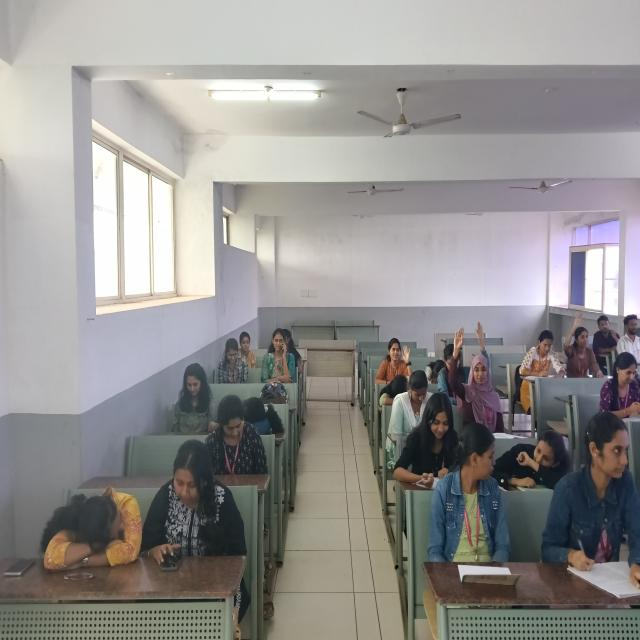Hand Rising: (443, 324, 495, 419), (374, 337, 415, 380)
Sleeping: (32, 486, 151, 580), (488, 426, 580, 504), (236, 392, 291, 448)
Using Phone: (145, 436, 235, 579), (206, 392, 270, 482), (260, 325, 295, 385)
Writing: (549, 404, 640, 596), (390, 394, 474, 491)
